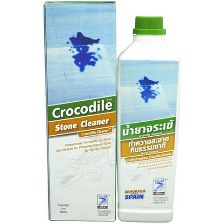book: (41, 1, 119, 224)
cleaning_solution: (115, 10, 186, 224)
